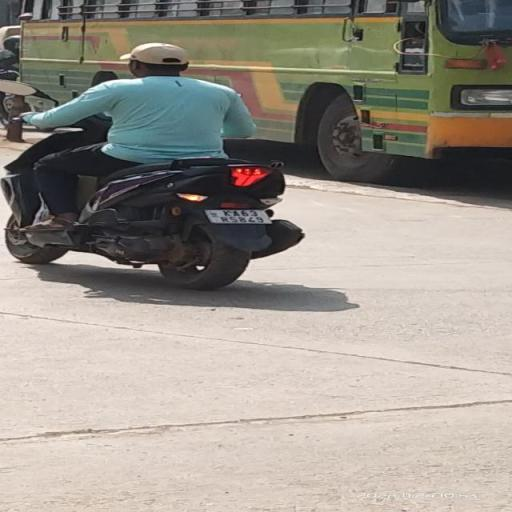bike: (4, 38, 304, 292)
numberplate: (206, 208, 271, 224)
withouthelmet: (131, 43, 187, 77)
